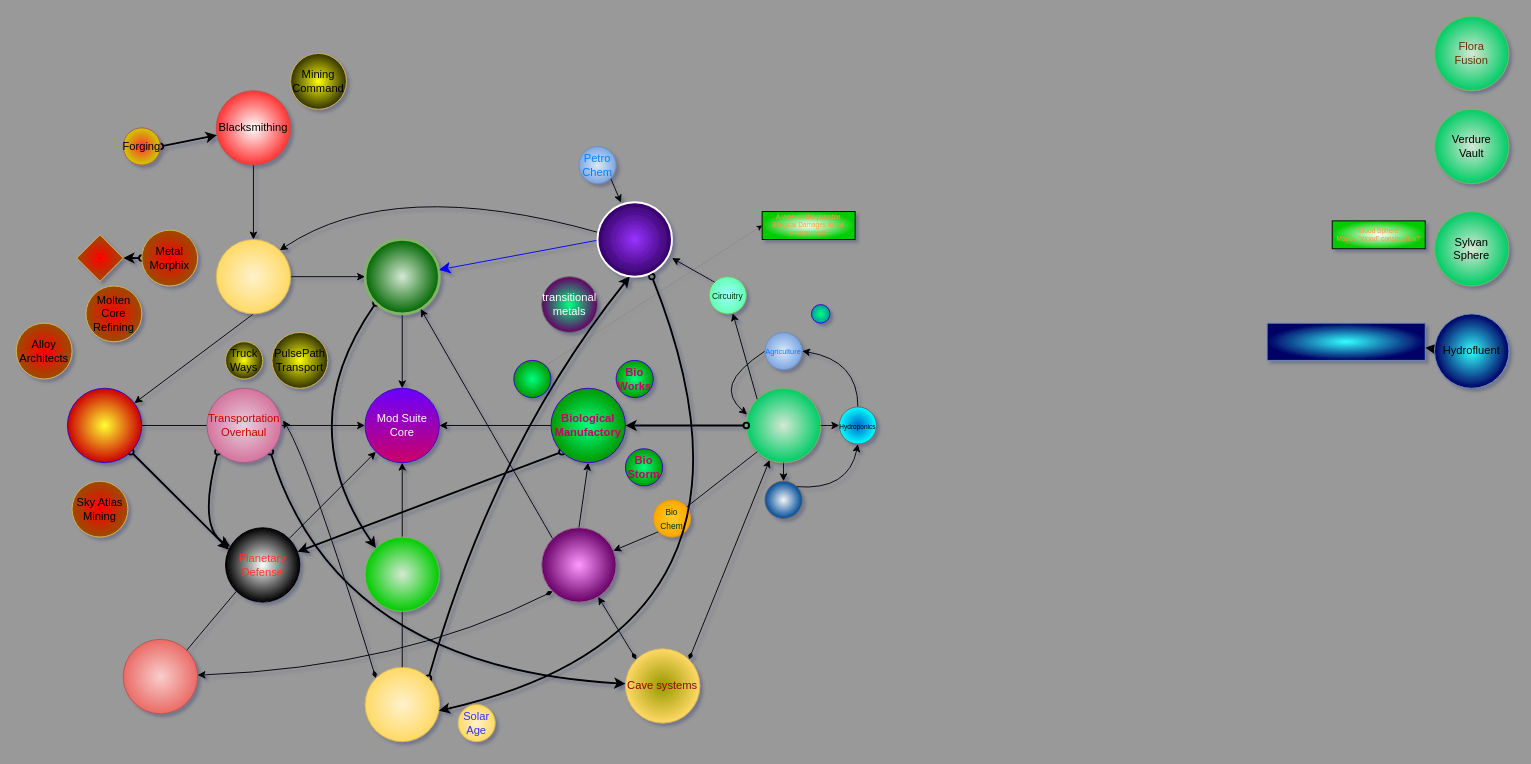
Image size: 1531x764. Some labels were removed from this diagram. Here are the shapes that lost their labels. From the top down, the centre of each, then its label:
point (99, 257): Advanced Metallurgy?
point (634, 239): Periodic Madness
point (253, 276): Metallurgy
point (401, 276): Chemical Constructions
point (820, 313): Farm Master
point (1345, 341): Potential name for hydroponics?
point (532, 378): Bio View
point (104, 425): Sky Atlas Metallurgy
point (783, 425): Arboretum "Breathe Easy"
point (783, 499): Aqua culture
point (401, 573): Nuclear Production
point (578, 564): Arch Demons
point (160, 676): Military Modifications
point (401, 704): Power Production
